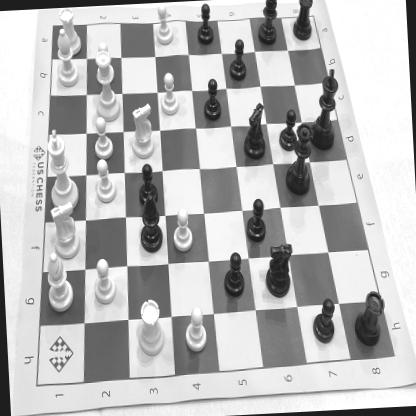black-bishop: (134, 191, 166, 255), (254, 0, 280, 47)
black-king: (308, 65, 342, 151)
black-knight: (262, 240, 294, 300), (240, 100, 268, 163)
black-pawn: (307, 296, 337, 346), (240, 194, 268, 245), (222, 248, 246, 298), (202, 74, 224, 124), (276, 107, 298, 155), (194, 1, 216, 48), (136, 161, 158, 208), (227, 37, 248, 84)
black-queen: (282, 124, 315, 202)
black-rook: (350, 288, 387, 348), (289, 0, 316, 42)
white-bishop: (43, 251, 76, 313), (52, 27, 80, 88)
white-king: (44, 126, 80, 212)
white-knight: (48, 200, 83, 260), (129, 102, 157, 160)
white-pawn: (180, 305, 208, 357), (90, 256, 118, 307), (92, 155, 118, 205), (170, 204, 194, 254), (158, 69, 181, 118), (92, 114, 115, 162), (152, 2, 175, 48), (93, 40, 116, 84)
white-queen: (90, 48, 123, 124)
white-rook: (134, 295, 166, 359), (57, 6, 82, 56)
